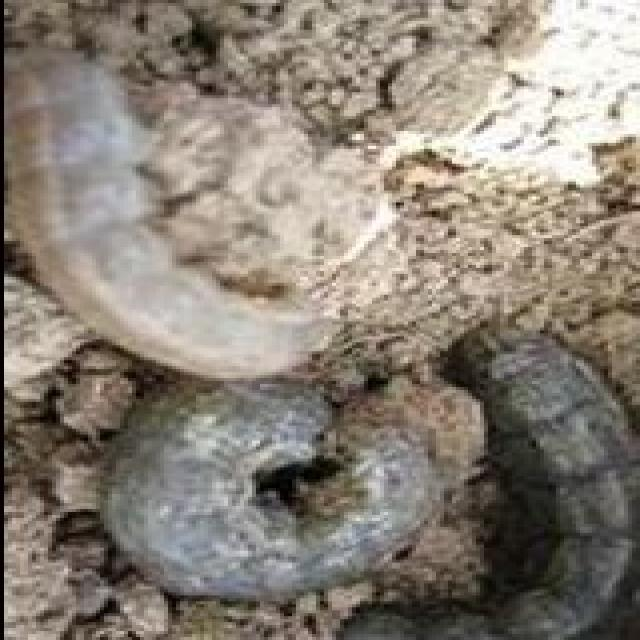black cutworm: (3, 42, 343, 408), (71, 364, 475, 626), (455, 320, 635, 635)
